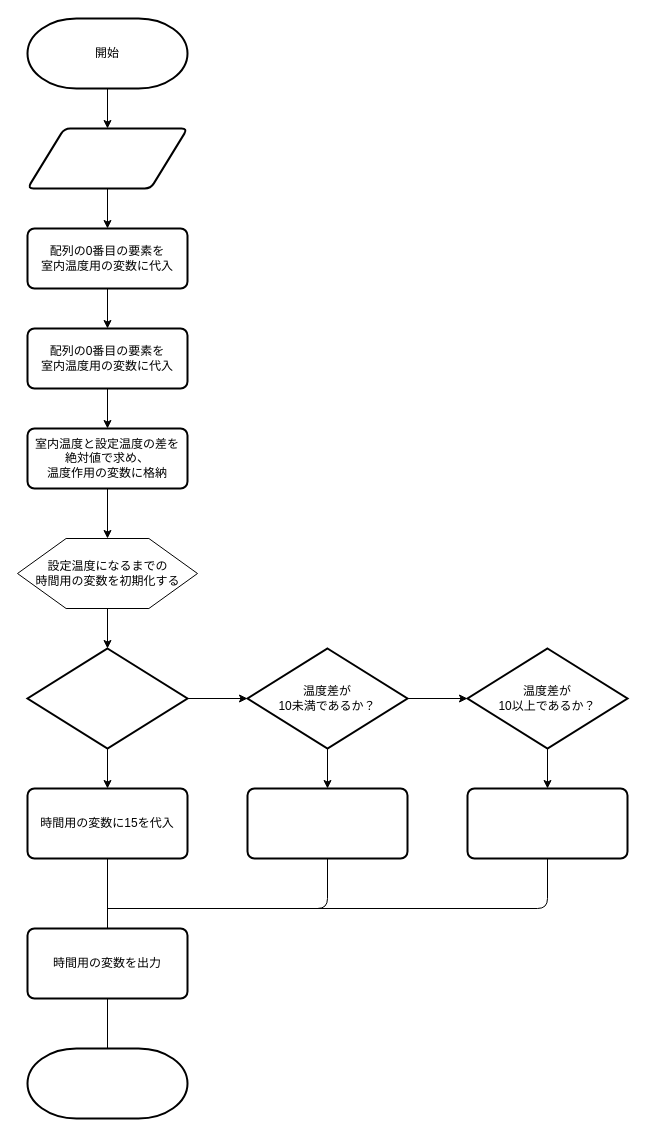
This 646x1136 diagram has some shape labels left out. Each missing label, with the box of its shape:
時間用の変数に30を代入: (246, 787, 408, 859)
時間用の変数に60を代入: (466, 787, 628, 859)
標準出力 （配列に格納）: (26, 127, 188, 189)
温度差が 5未満であるか？: (26, 647, 188, 749)
終了: (26, 1047, 188, 1119)
